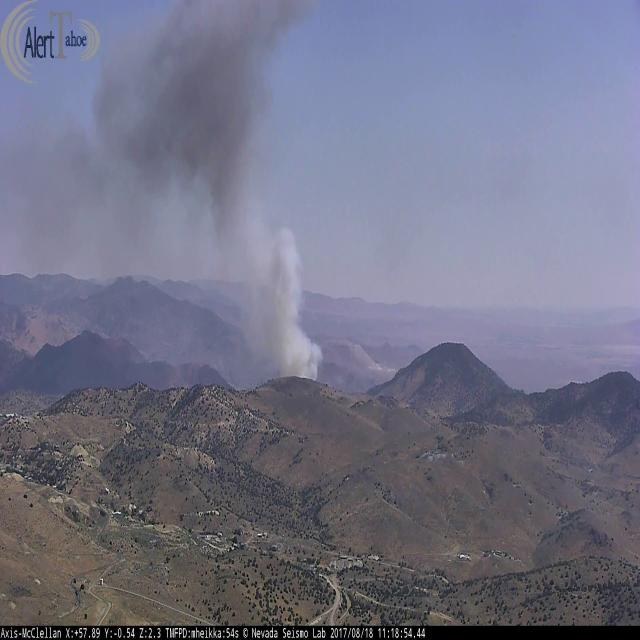smoke: (113, 6, 330, 402)
